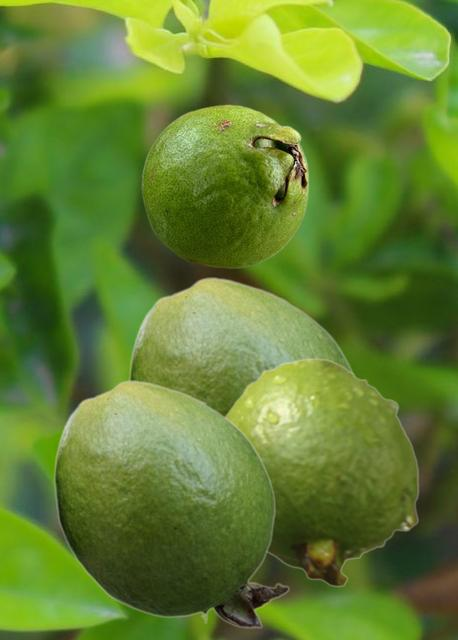guava: (53, 379, 289, 627), (225, 357, 418, 586), (128, 276, 357, 414), (141, 104, 308, 268)
